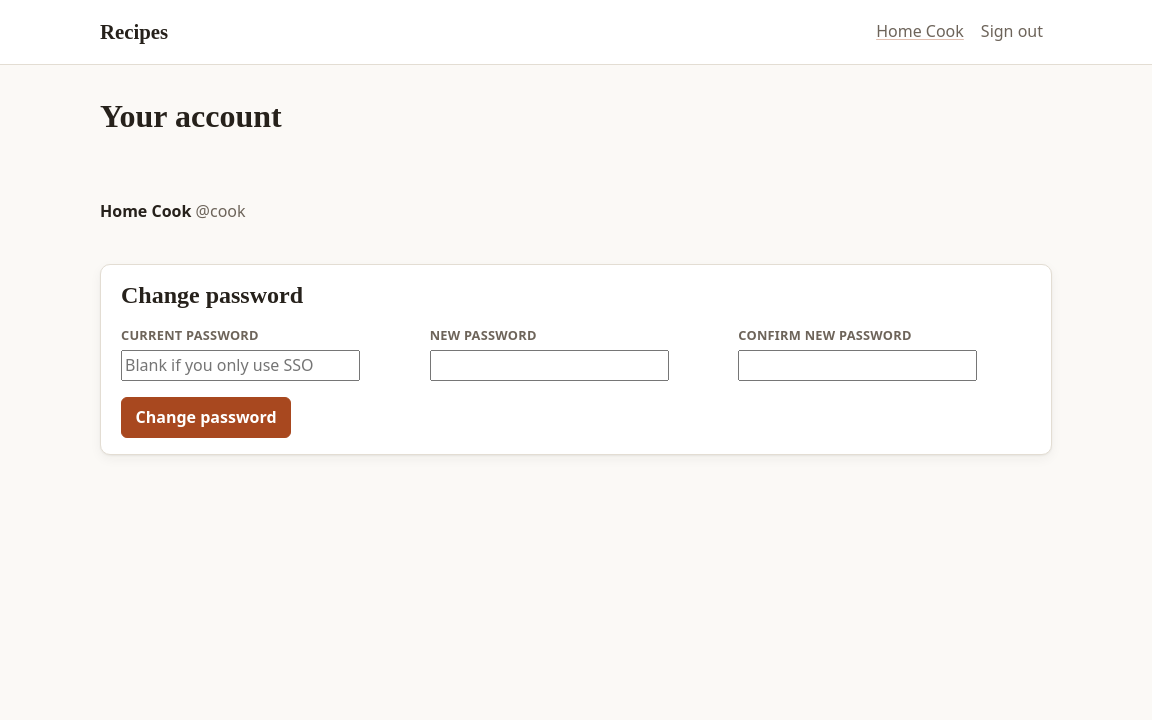
account page › shows a wrong current password
In the password field labelled "Current password": (240, 366) x1=121 y1=350 x2=360 y2=381, type "wrong"
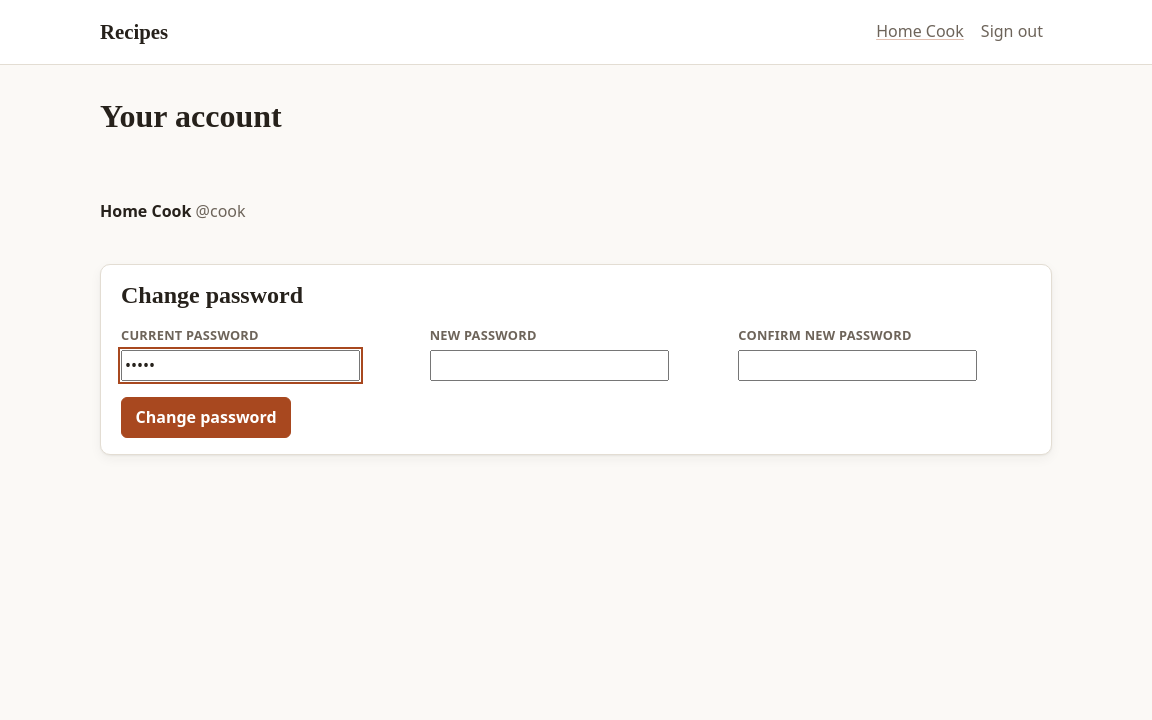
In the password field labelled "New password": (549, 366) x1=430 y1=350 x2=669 y2=381, type "n3w-password"
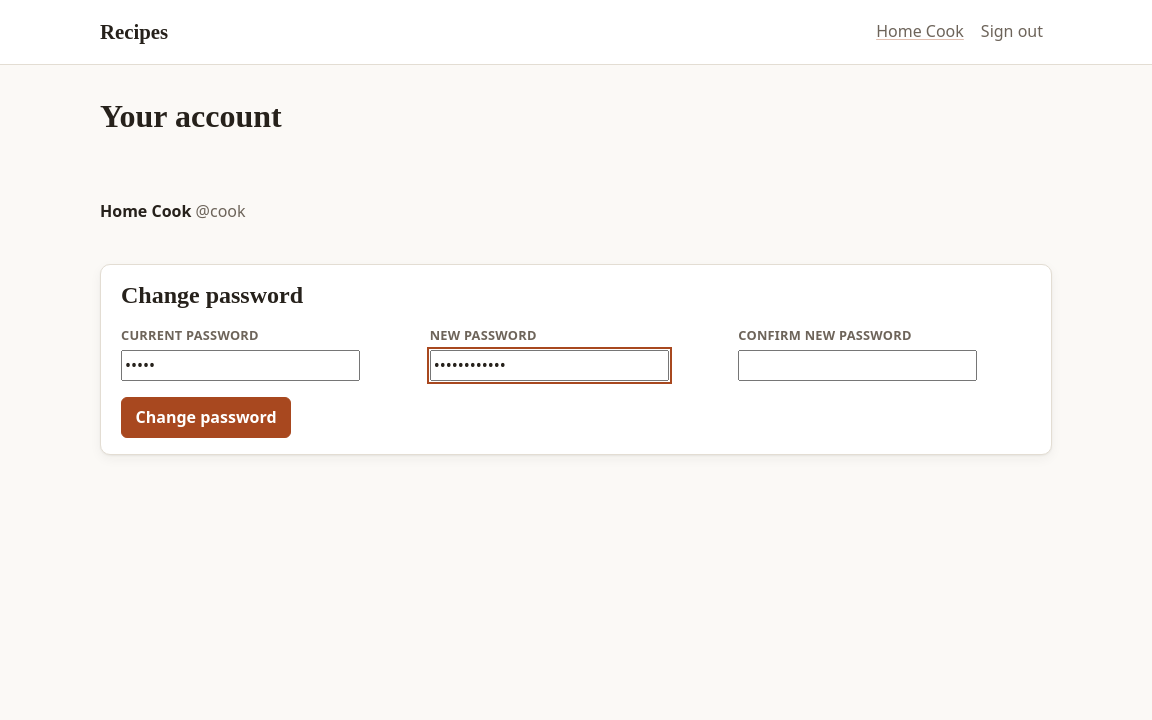
In the password field labelled "Confirm new password": (858, 366) x1=738 y1=350 x2=977 y2=381, type "n3w-password"
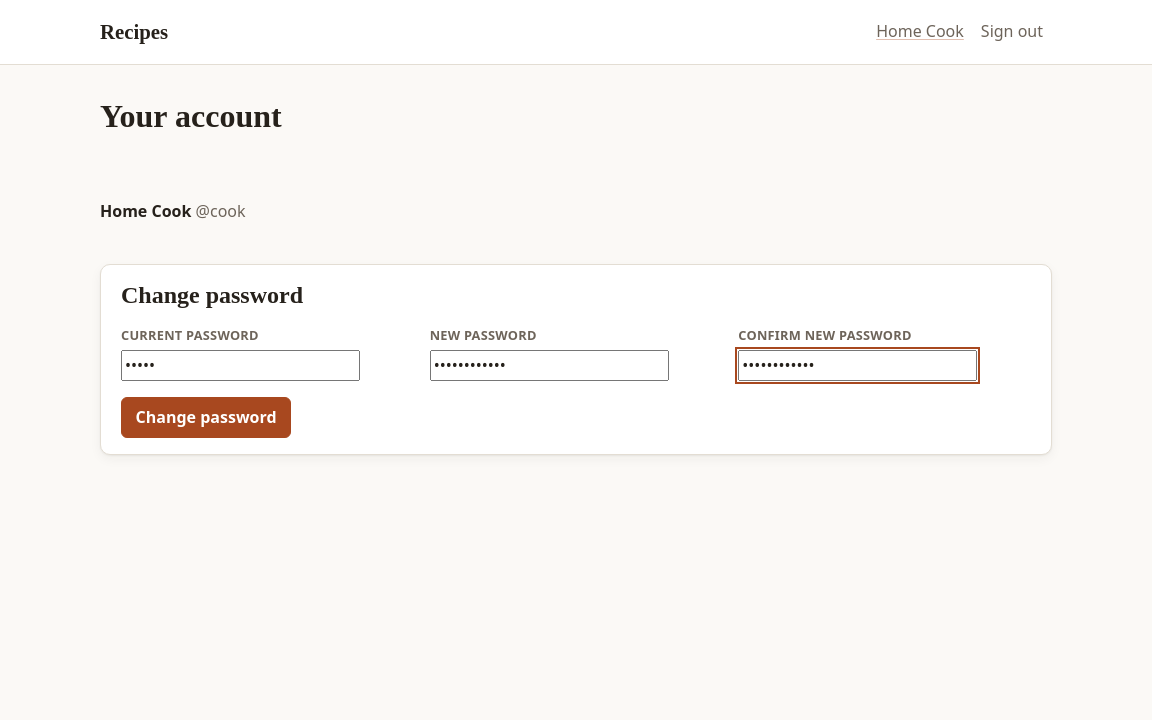
Click the button "Change password": (206, 418) x1=121 y1=397 x2=291 y2=438
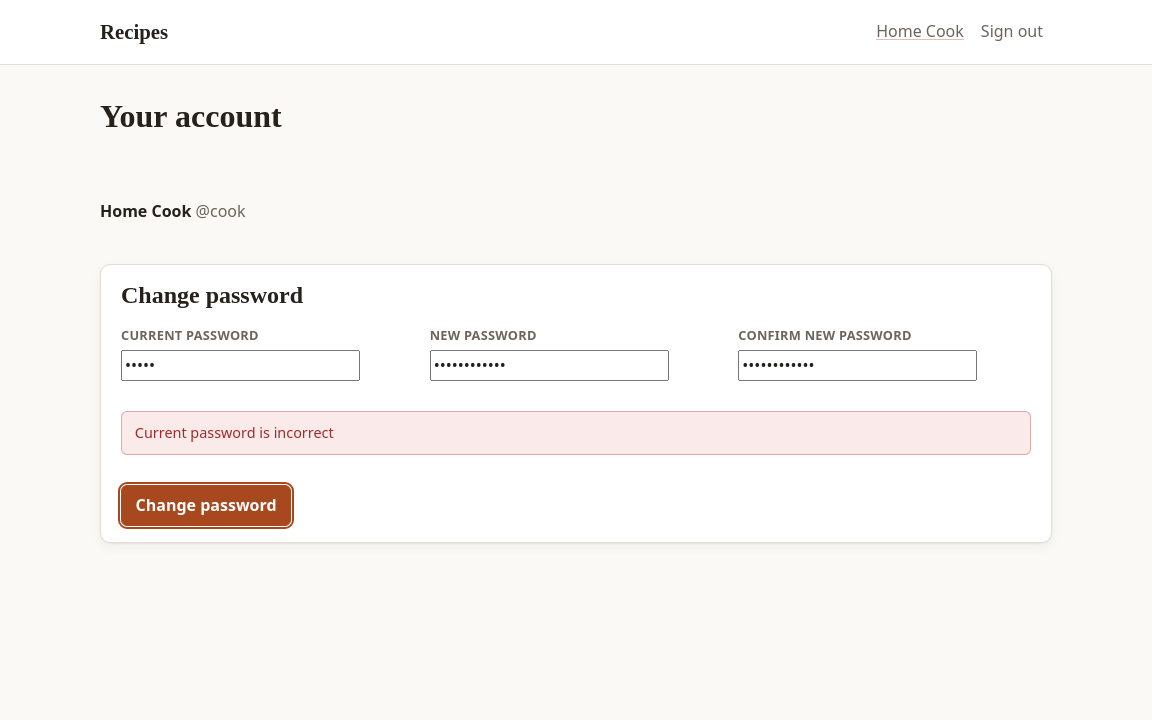
Check: the text "Current password is incorrect" is shown, box x1=121 y1=411 x2=1031 y2=455
